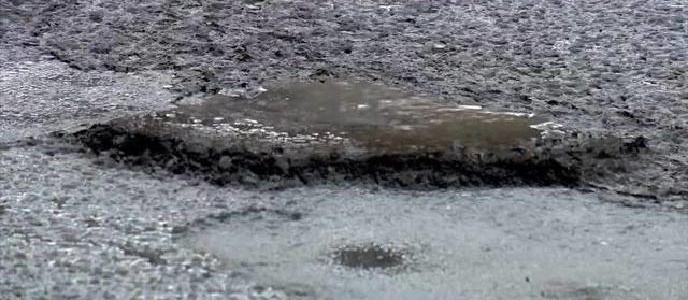pothole: (43, 70, 654, 198), (325, 243, 412, 279)
